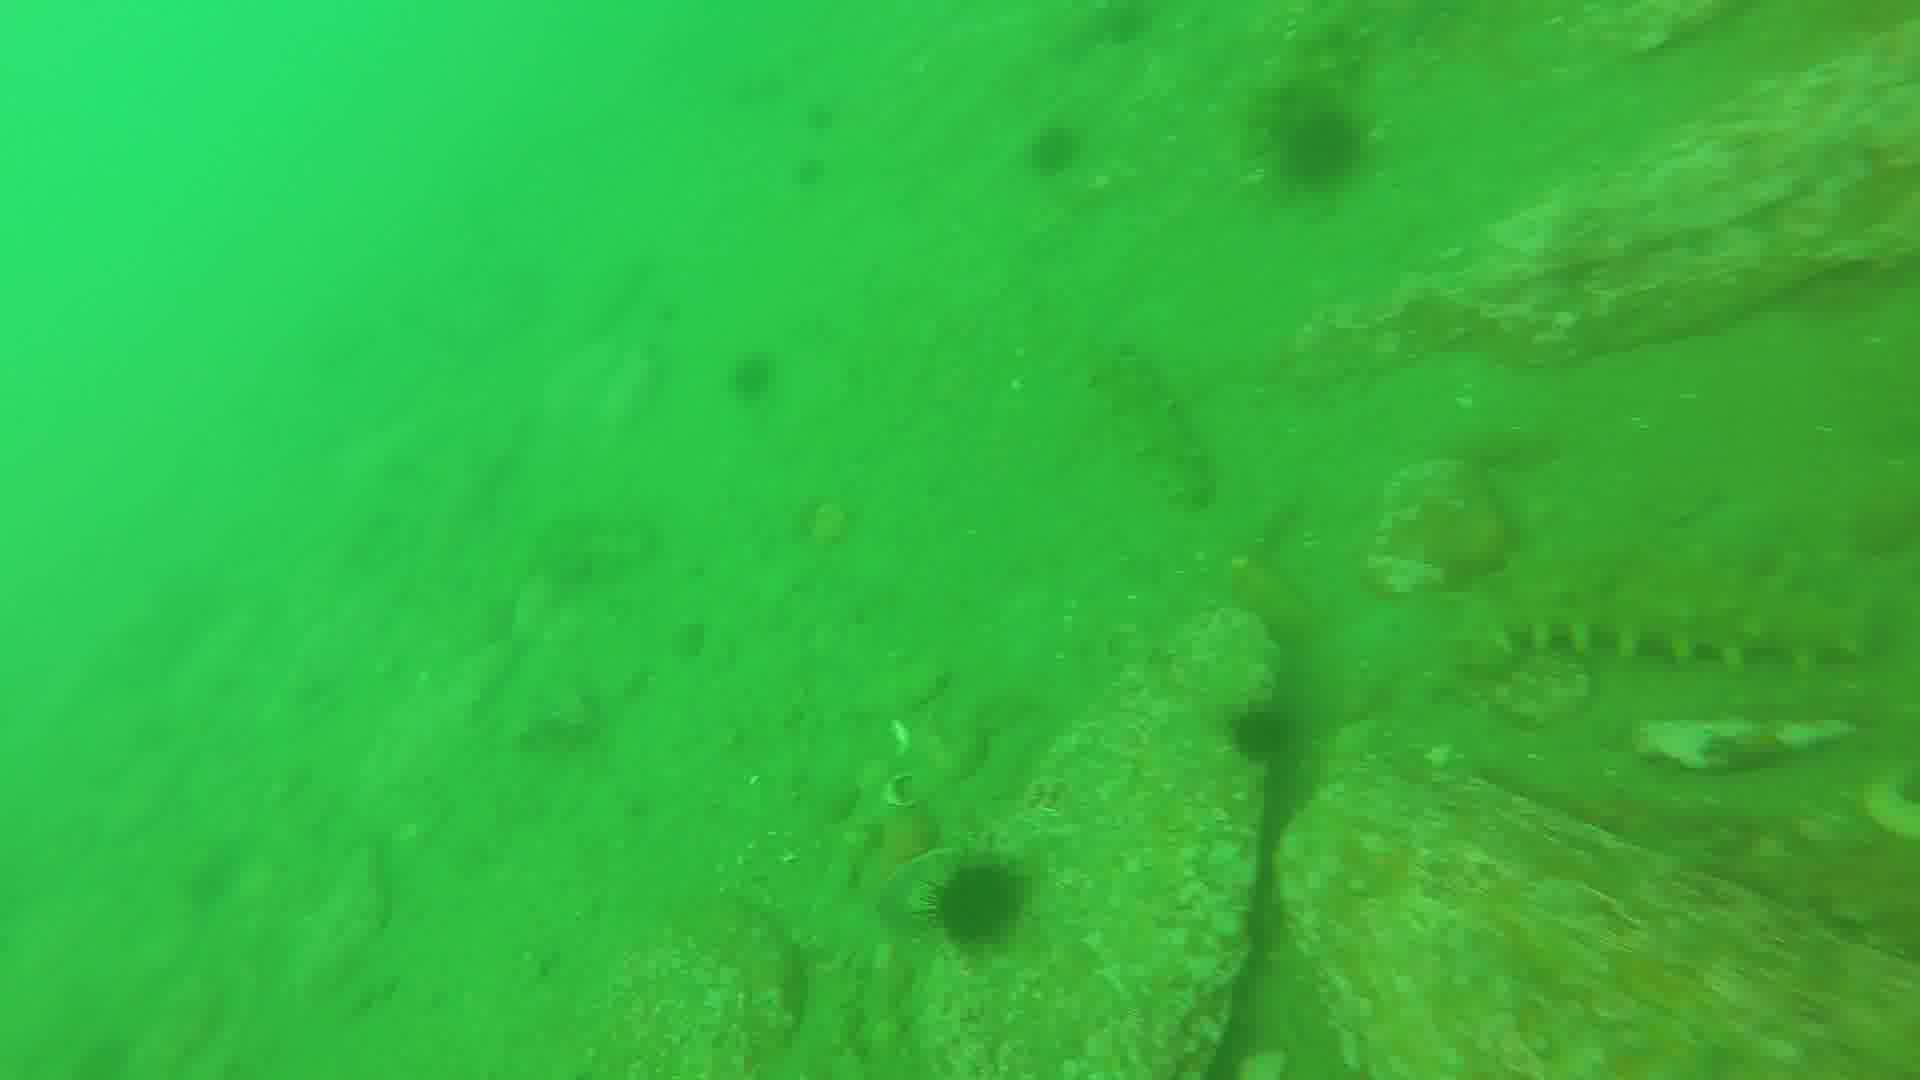echinus: (927, 858, 1027, 948), (1279, 115, 1370, 189), (1233, 700, 1302, 770), (738, 343, 789, 407), (1033, 131, 1095, 177)
holothurian: (1491, 553, 1873, 670), (1088, 344, 1211, 512)
